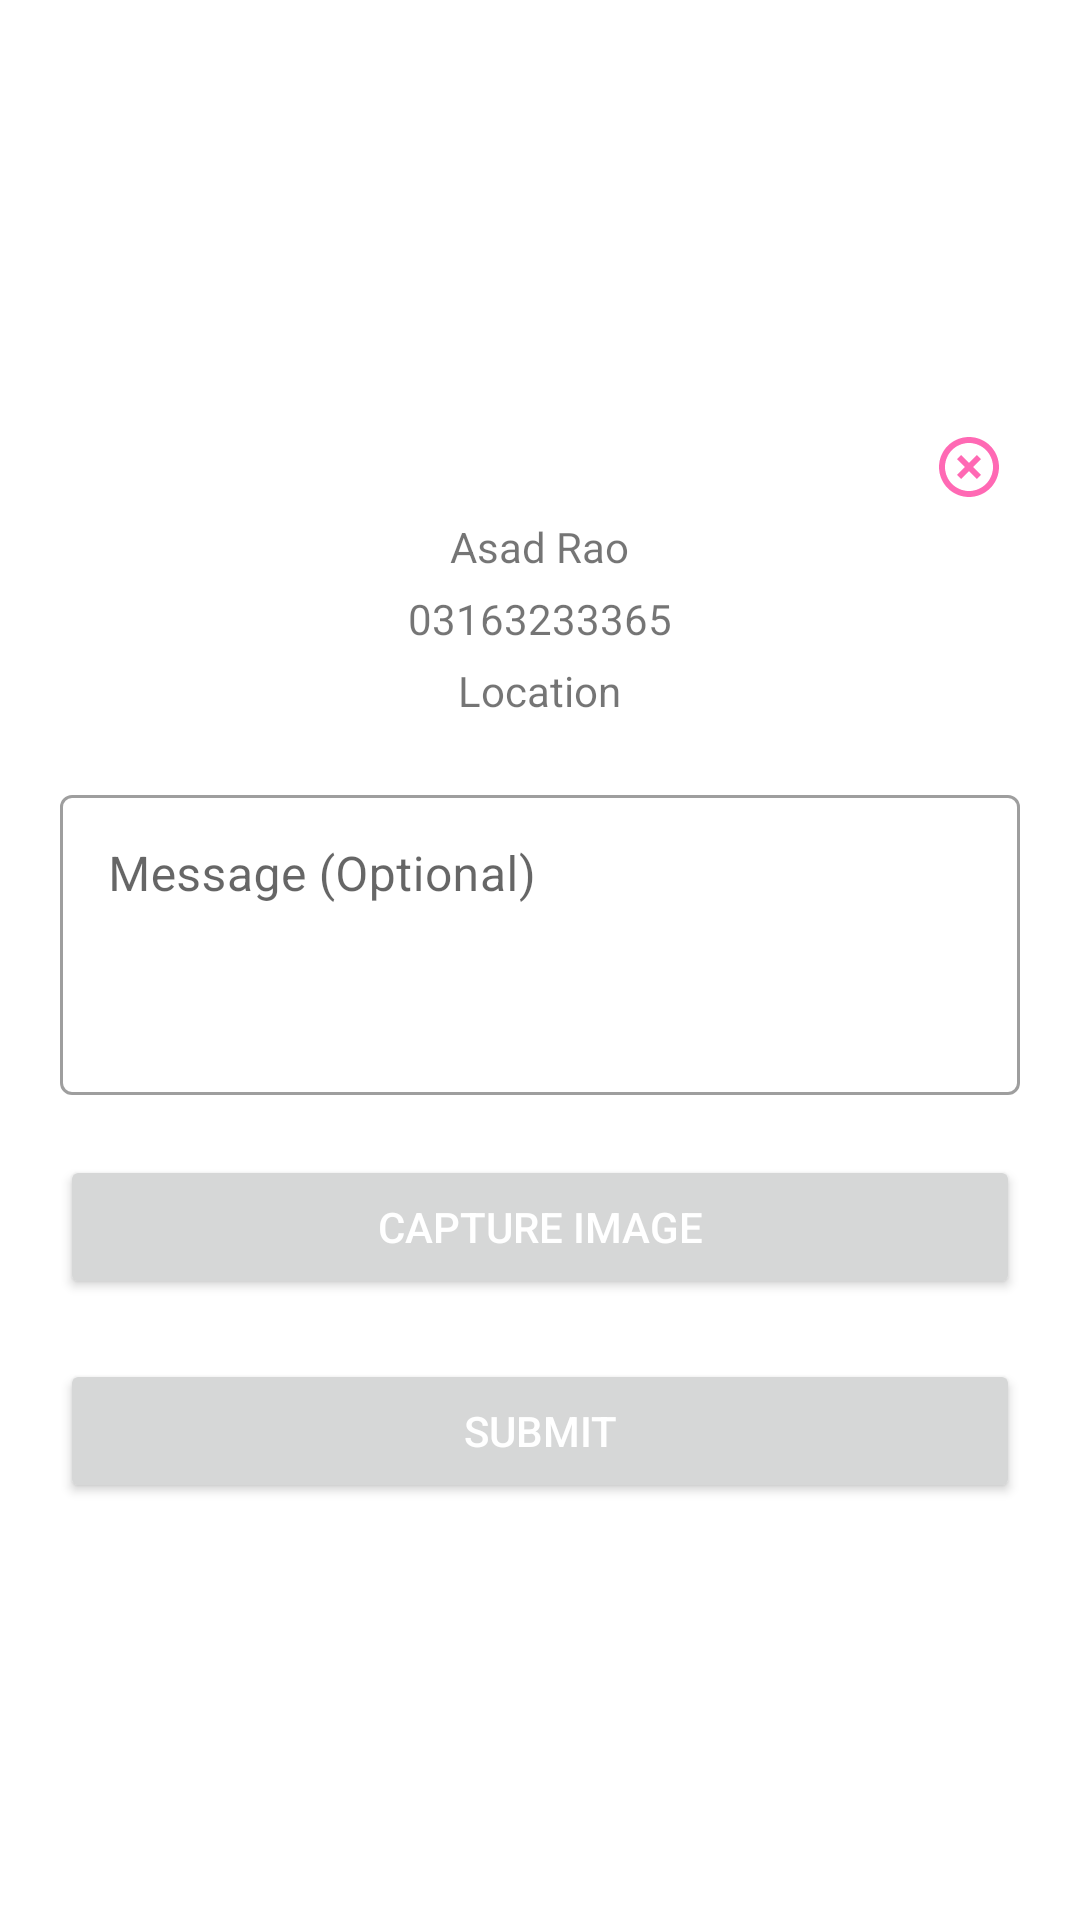

Screen size 1080x1920. Icon name, then its center in pixels as point (x, y):
cross: point (969, 467)
